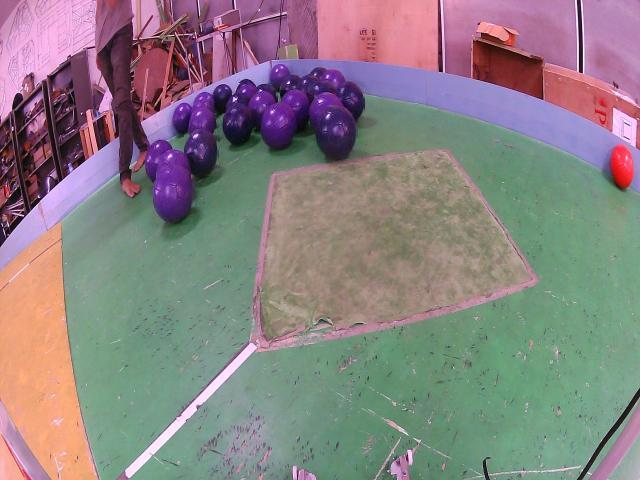jambhalya: (154, 165, 194, 222), (261, 103, 297, 150), (310, 92, 343, 128), (282, 90, 311, 130), (145, 140, 172, 181), (249, 90, 276, 128), (157, 150, 192, 175), (189, 107, 216, 134), (173, 104, 192, 133), (270, 64, 290, 90), (320, 69, 345, 88), (236, 84, 256, 103), (194, 98, 214, 112), (194, 93, 214, 104)
kaalyya: (316, 105, 357, 160), (185, 130, 218, 176), (223, 102, 255, 144), (337, 81, 364, 121), (307, 80, 334, 103), (213, 84, 232, 113), (280, 75, 301, 98), (297, 75, 318, 97), (256, 83, 277, 102), (226, 94, 247, 109), (310, 67, 326, 78), (237, 80, 254, 87)
